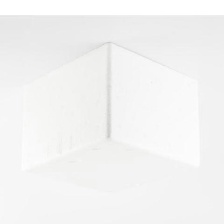foam_box: (17, 38, 205, 198)
